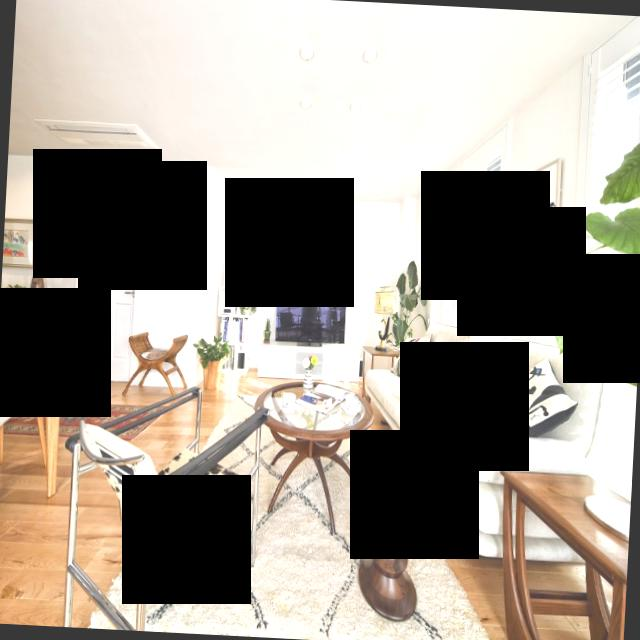vintage chair: (123, 325, 191, 400)
vintage desk: (499, 461, 632, 640), (258, 371, 376, 519), (0, 336, 74, 523), (352, 450, 429, 623)
